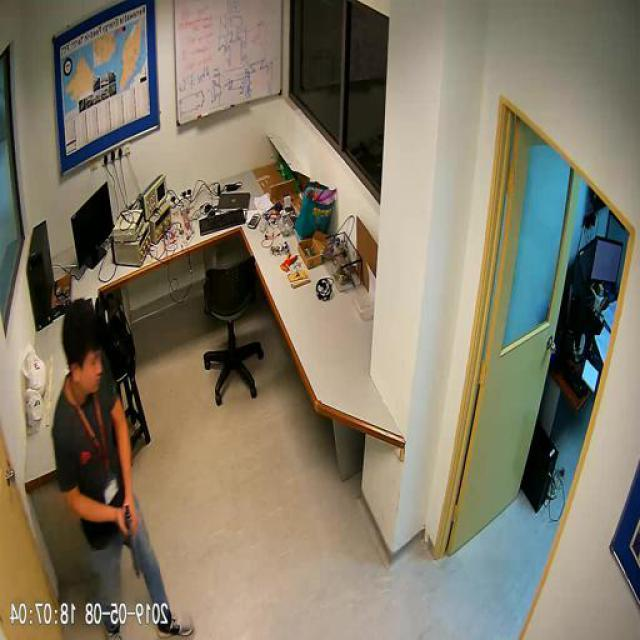Gun: (124, 502, 146, 578)
